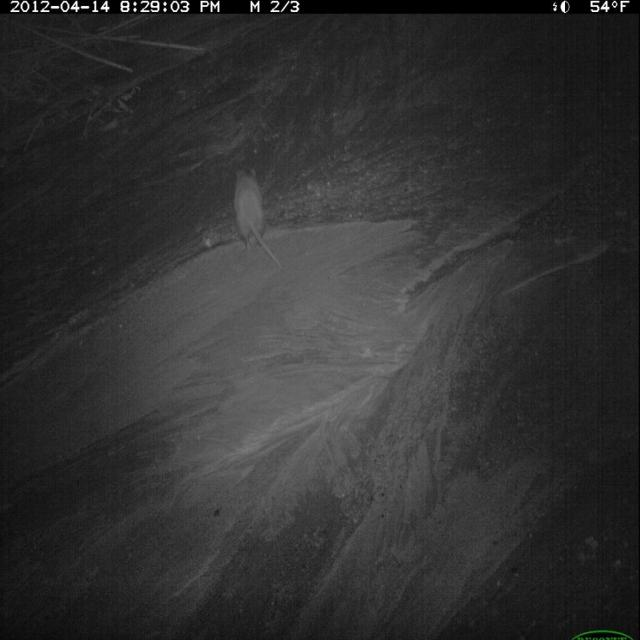opossum: (230, 160, 288, 280)
